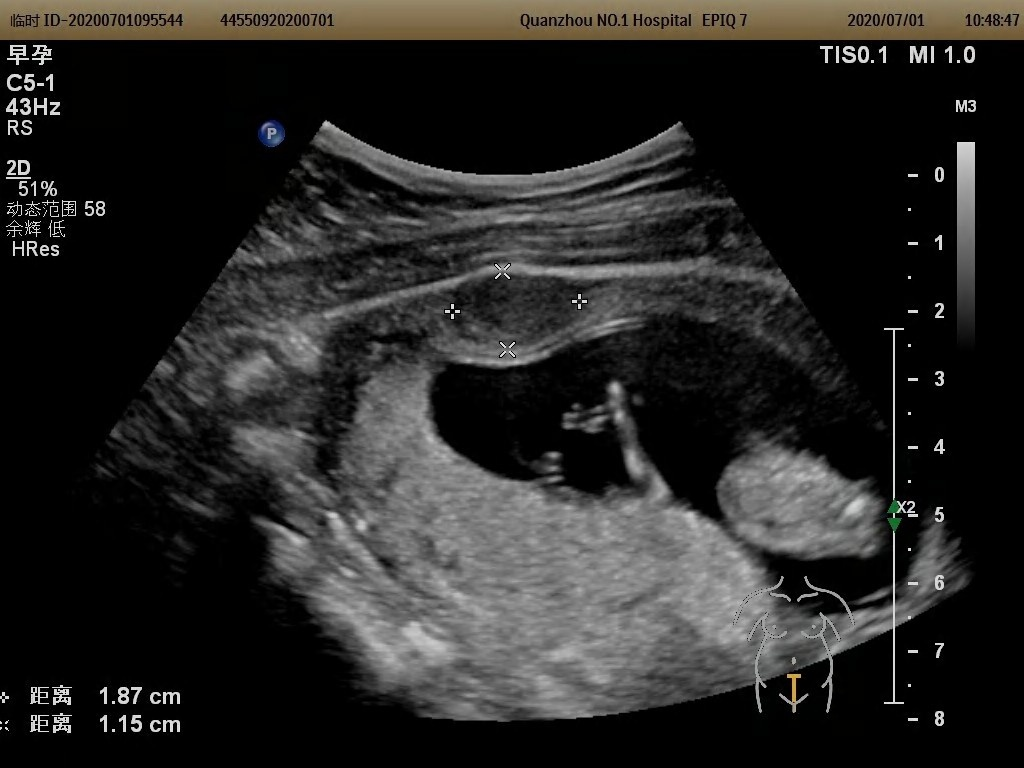肌瘤: (453, 271, 585, 343)
